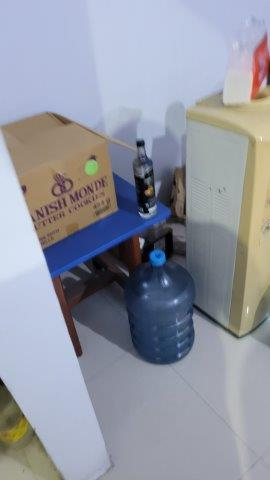botolkaca: (132, 138, 155, 221)
